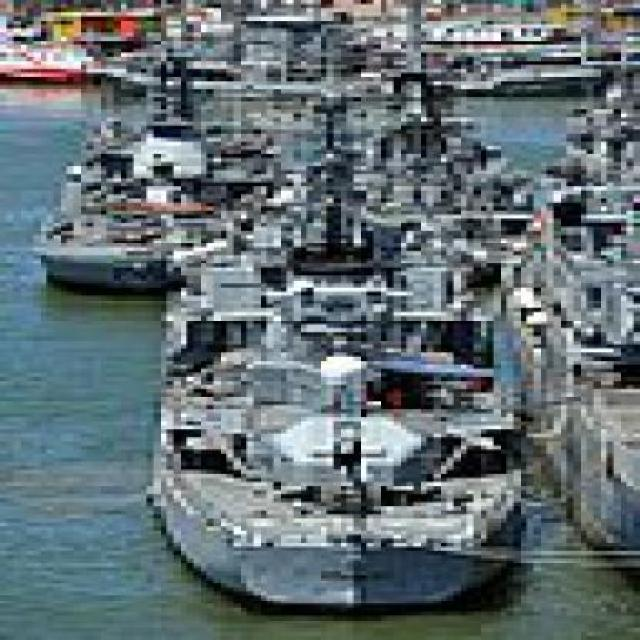warship2: (154, 62, 554, 600)
